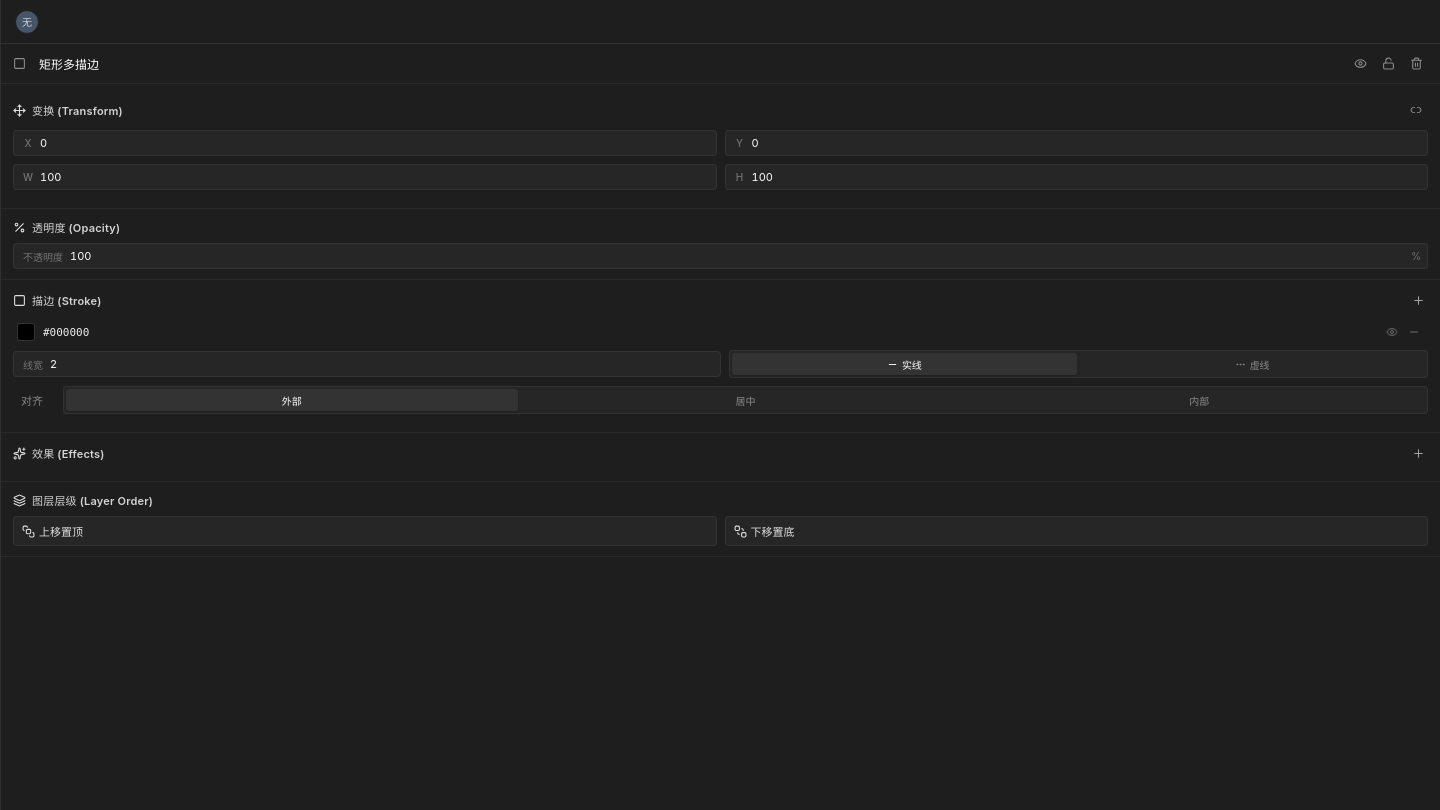
it: InspectorPanel › supports multi-stroke layering and toggling stroke visibility
Later steps or results of the test are not shown.
Expected: the field named "描边颜色十六进制" holds "#000000", [41,324,1376,340]
# Click add stroke layer
Click the button named "添加描边图层" at (1418, 300), box [1408,290,1428,310]
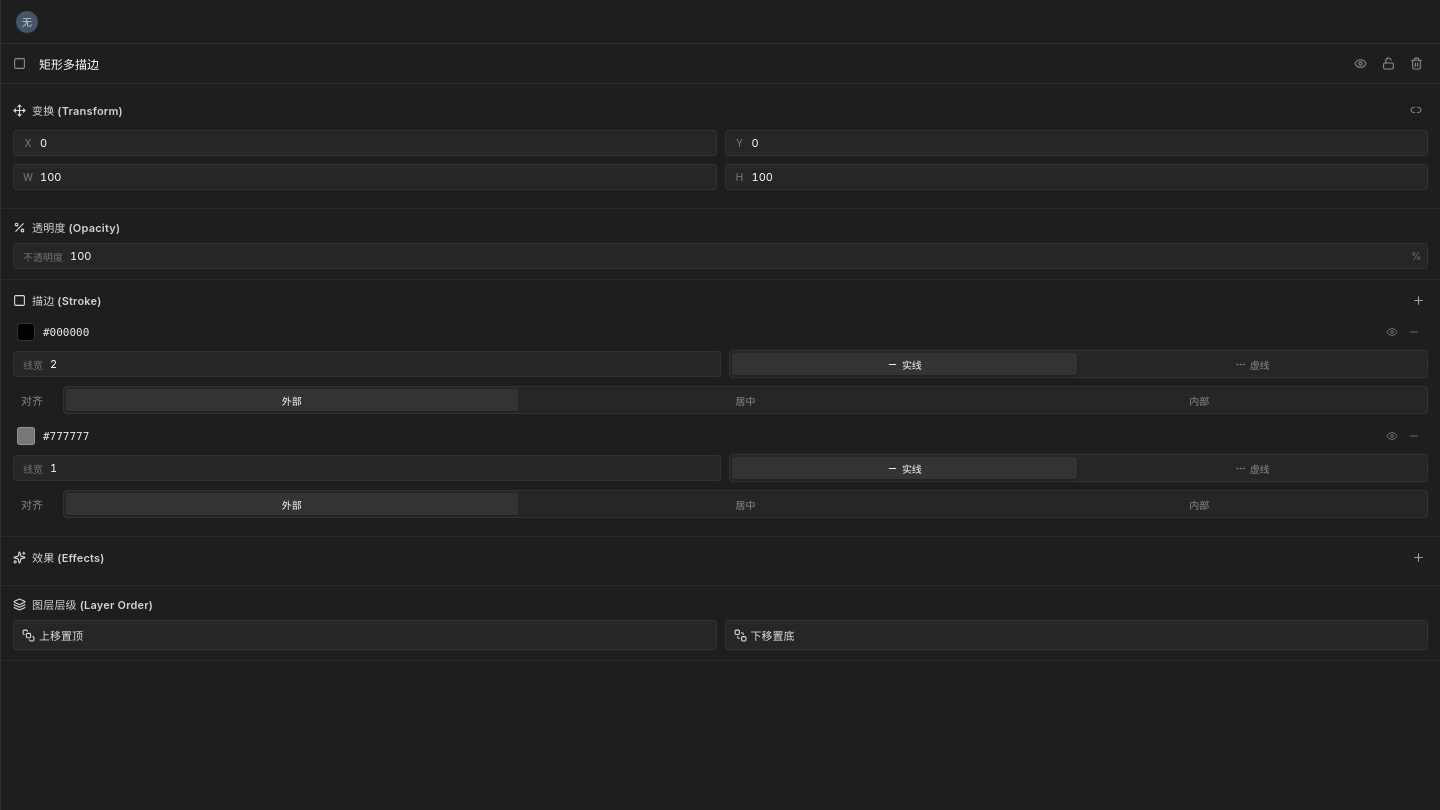
Expected: the 1st button titled "隐藏描边" is shown, [1382,322,1402,342]
Expected: the field named "描边颜色十六进制 2" is shown, [41,428,1376,444]
